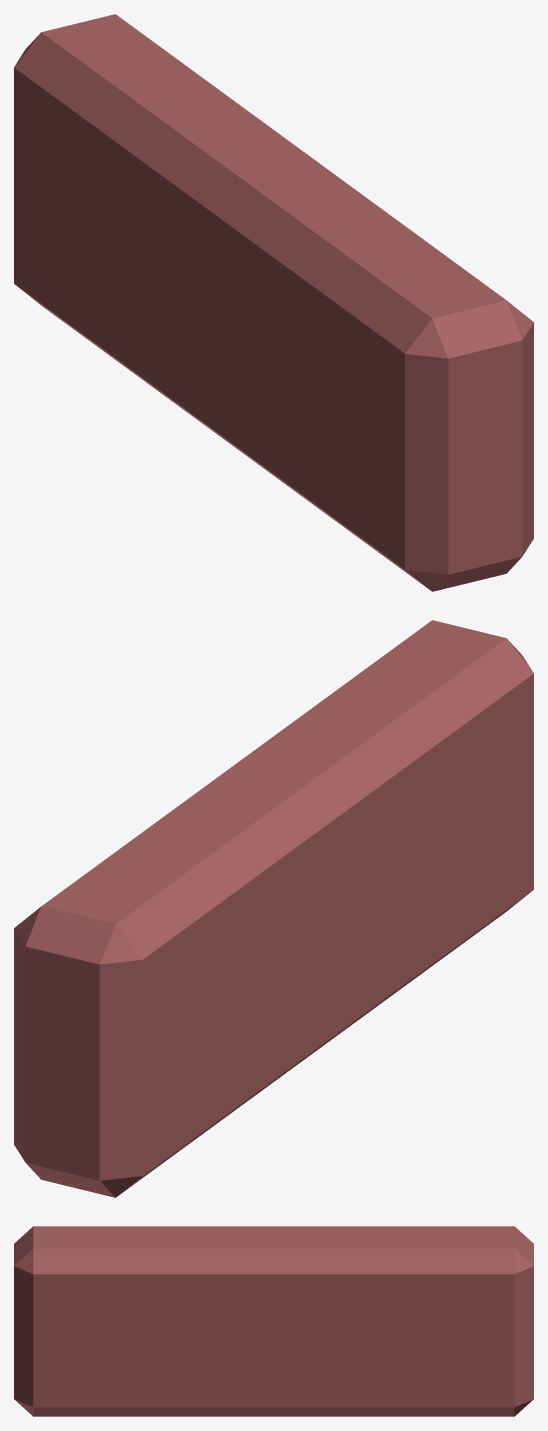
File: TrapBox_Lever.fbx
3 renders of one model, top to bottom at view 1: azimuth 30°, elevation 25°; view 2: azimuth 150°, elevation 25°; view 3: azimuth 270°, elevation 25°, orthographic. The views are drawn at different scales.
Parts seen in each view (by area): view 1: TrapBox_Lever; view 2: TrapBox_Lever; view 3: TrapBox_Lever.
Boxes of the visible parts, x1,y1,x2,y2 form: TrapBox_Lever: (14,14,533,591); TrapBox_Lever: (14,620,533,1197); TrapBox_Lever: (14,1226,533,1416).
Size of the model in its own units: 1.5 by 3.03 by 8.5.
